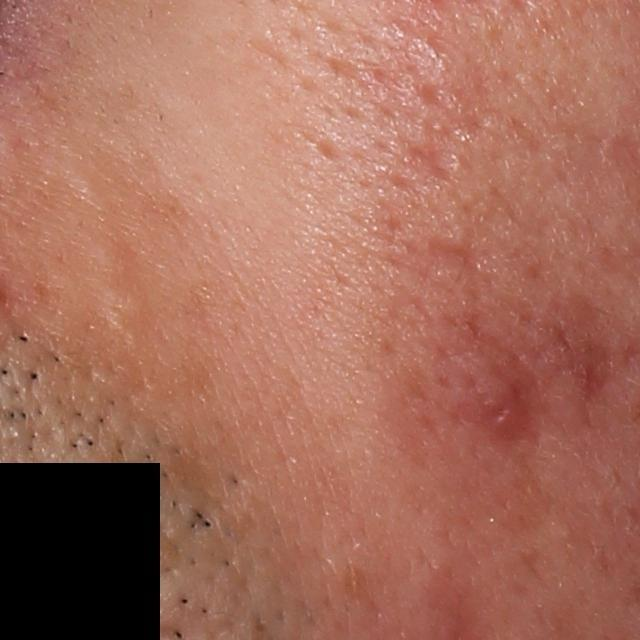atrophic_scar: (403, 83, 478, 190), (303, 134, 350, 168)
papule: (442, 342, 548, 450), (545, 309, 619, 388), (424, 247, 475, 293)
